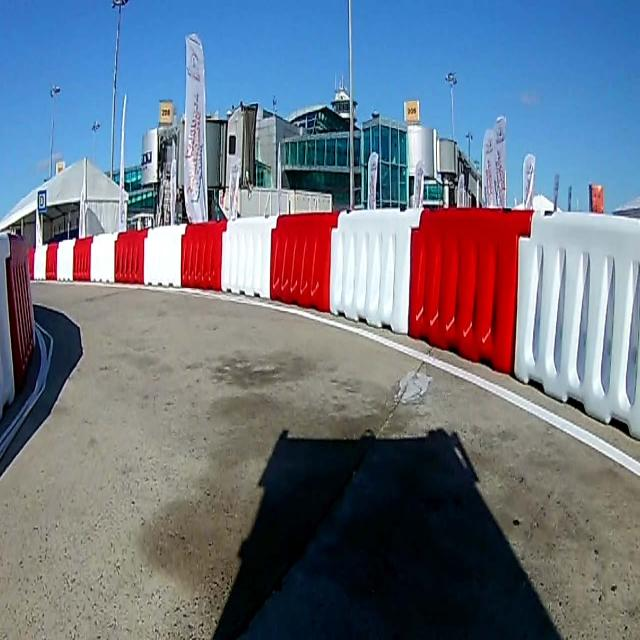durak: (38, 190, 46, 209)
